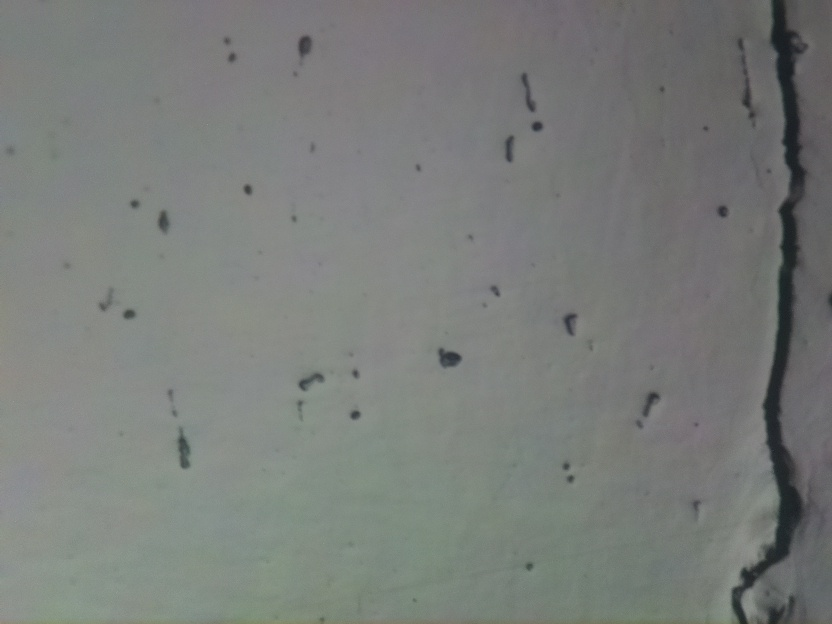crack: (732, 0, 816, 624)
